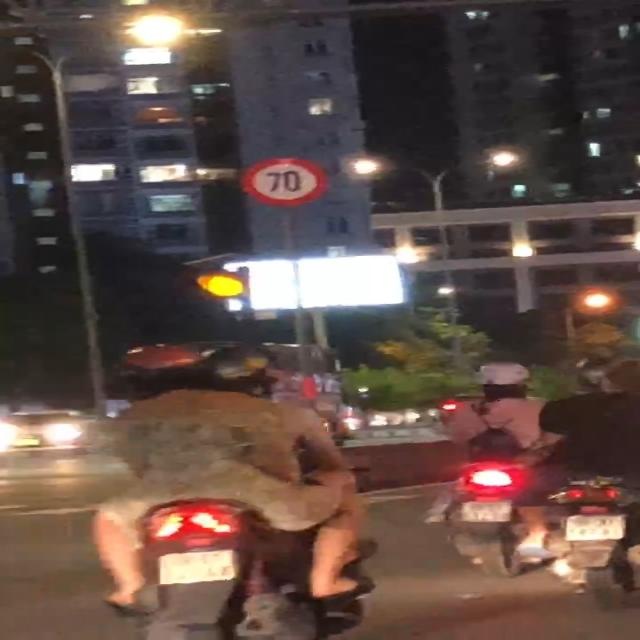Bien bao toc do toi da cho phep: (236, 153, 336, 209)
